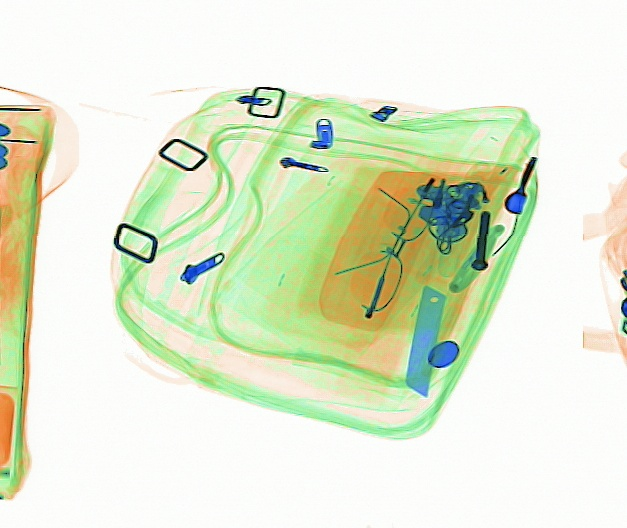knife: (403, 283, 445, 396)
